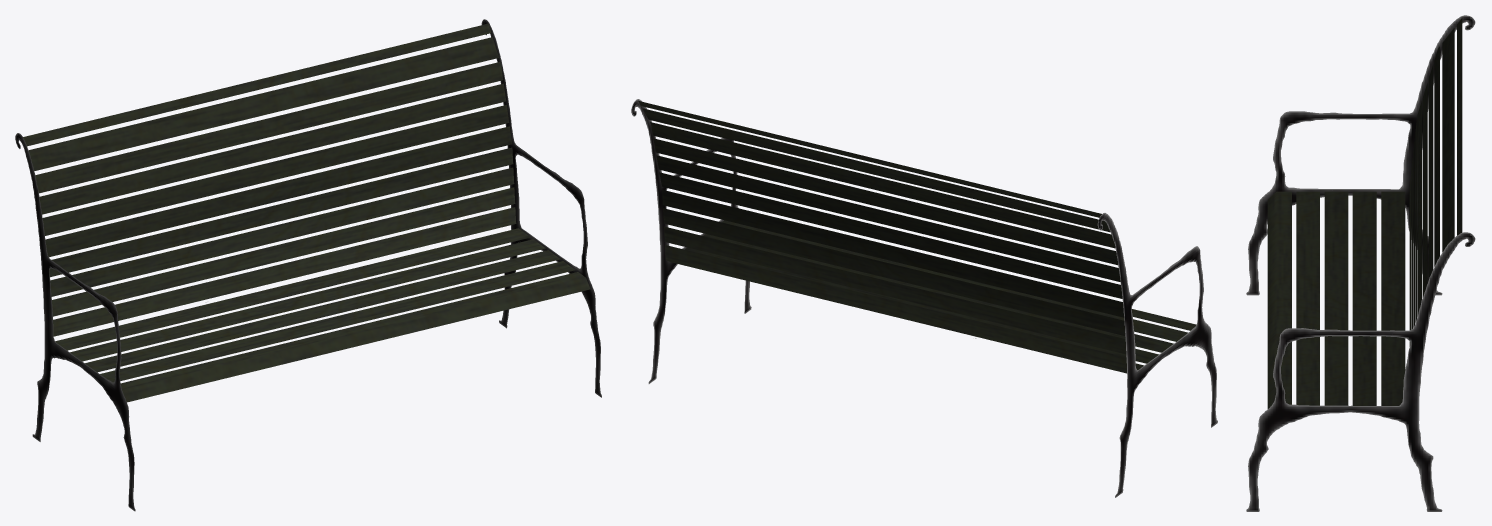
Rendered from bench_4_v1.obj.
3 renders of one model, left to right at view 1: azimuth 30°, elevation 25°; view 2: azimuth 150°, elevation 25°; view 3: azimuth 270°, elevation 25°, orthographic. The views are drawn at different scales.
Parts seen in each view (by area): view 1: bench_4_v1; view 2: bench_4_v1; view 3: bench_4_v1.
Part boxes in pixels (x1=…): bench_4_v1: x1=15, y1=19, x2=601, y2=511; bench_4_v1: x1=631, y1=99, x2=1217, y2=497; bench_4_v1: x1=1246, y1=15, x2=1475, y2=511.
Bounding box in the file's own units: 1.66 × 1.01 × 0.7506.
Materials: 1 (1 with a texture image).
